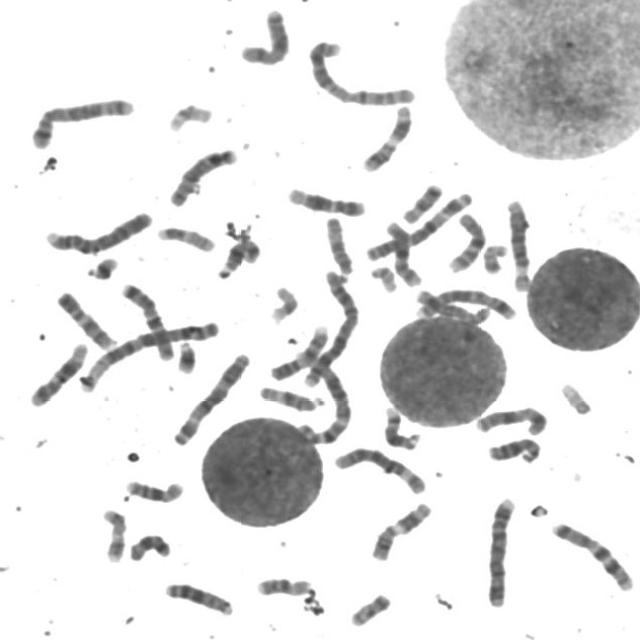A1: (72, 314, 222, 394), (291, 347, 354, 447)
A2: (302, 33, 419, 107), (298, 266, 362, 390)
A3: (358, 185, 476, 262), (166, 346, 252, 447)
B4: (37, 204, 154, 256), (480, 491, 518, 609)
B5: (24, 91, 137, 151), (410, 282, 520, 321)
C10: (380, 215, 424, 287), (443, 207, 488, 273)
C11: (364, 497, 434, 562), (356, 98, 414, 174)
C12: (22, 337, 90, 408), (282, 181, 368, 217)
C6: (328, 440, 429, 496), (500, 192, 534, 294)
C7: (545, 515, 636, 592), (115, 276, 177, 361)
C8: (163, 142, 240, 208), (409, 283, 508, 324)
C9: (51, 285, 118, 350), (264, 319, 332, 382)
D13: (159, 576, 235, 617), (482, 432, 543, 466)
D14: (212, 233, 262, 280), (378, 401, 422, 451)
D15: (254, 380, 326, 413), (319, 210, 355, 276)
E16: (118, 472, 186, 504), (250, 571, 314, 598)
E17: (151, 220, 218, 254), (95, 502, 129, 564)
E18: (396, 177, 445, 224), (123, 527, 172, 563)
F19: (162, 96, 215, 134), (263, 280, 301, 324)
F20: (343, 587, 394, 628), (477, 238, 509, 275)
G21: (79, 250, 120, 281), (170, 336, 199, 374)
G22: (554, 376, 594, 417), (365, 260, 399, 294)
X: (233, 3, 293, 66), (469, 400, 550, 436)
